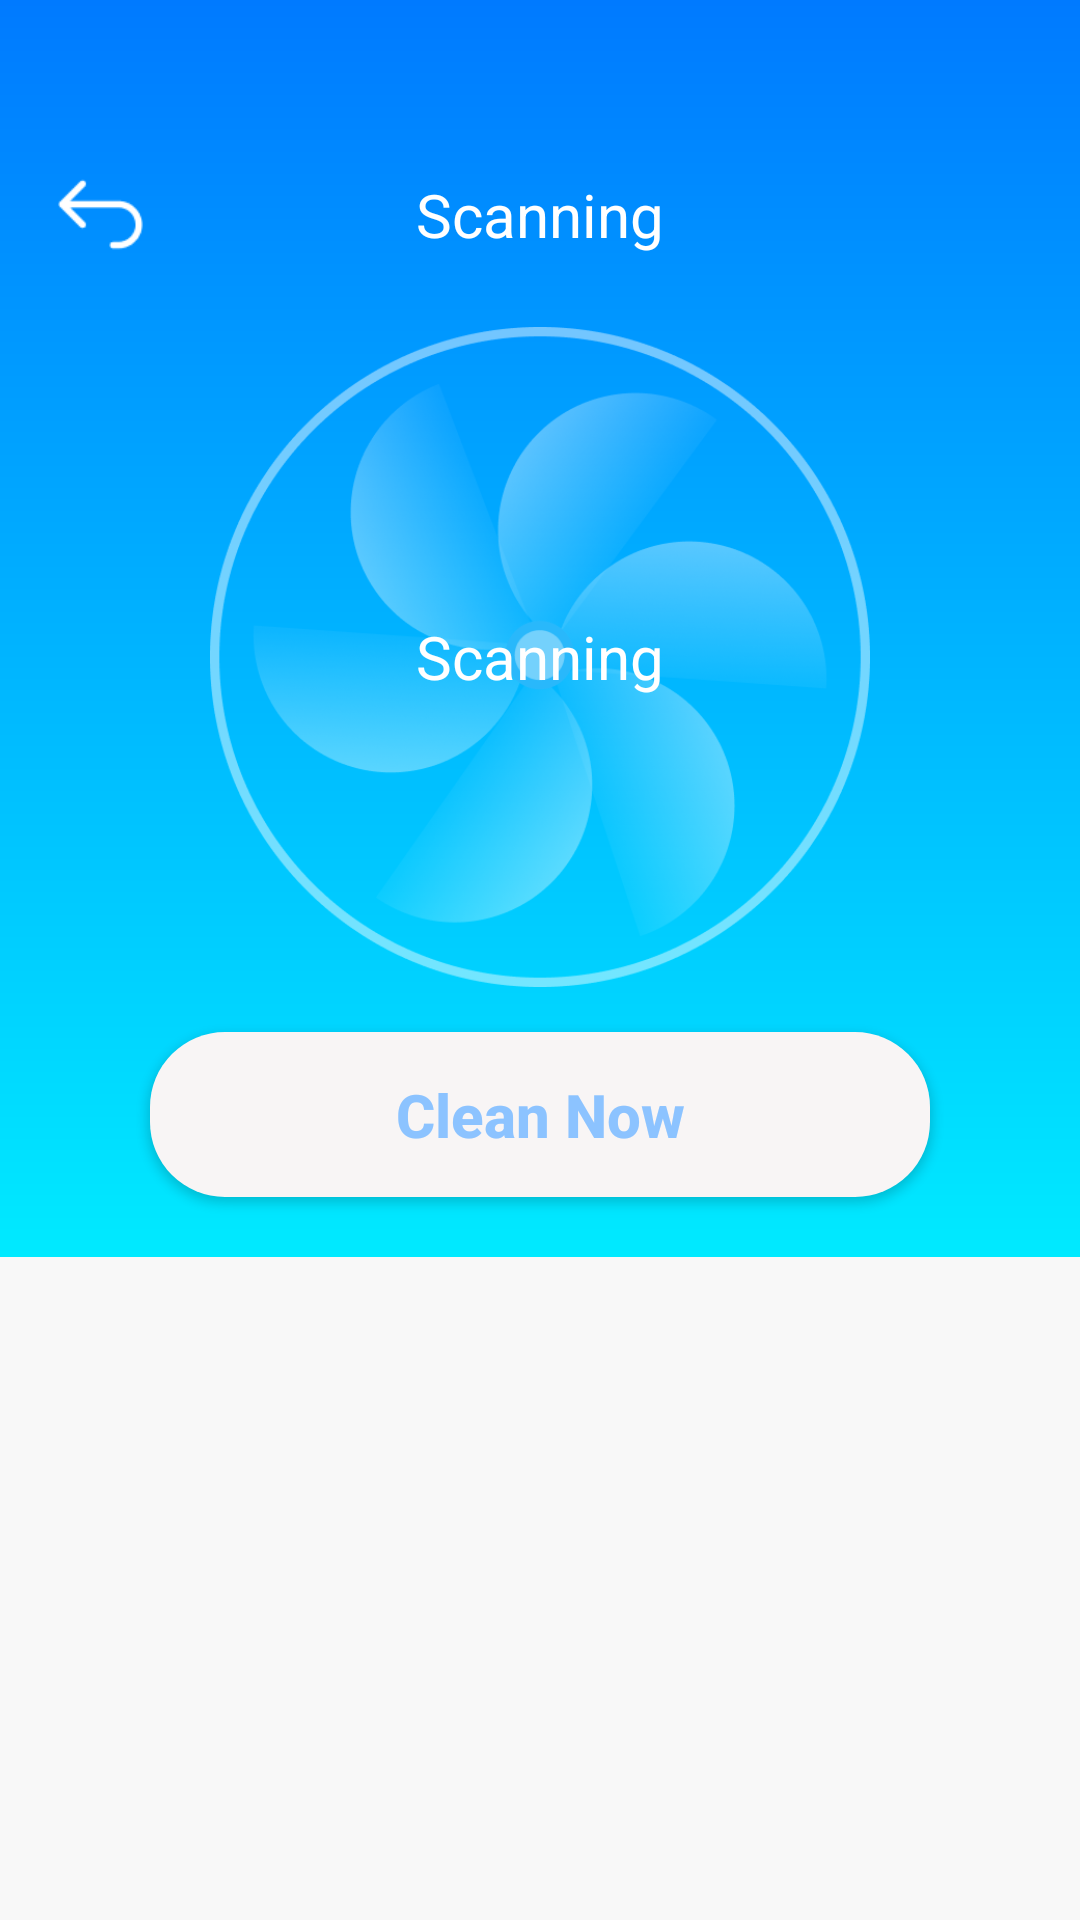

Icon bounding boxes for this 1080x1920 phone screenshot, format BBox(x1, y1, x2, y2):
scan back: BBox(58, 180, 143, 250)
